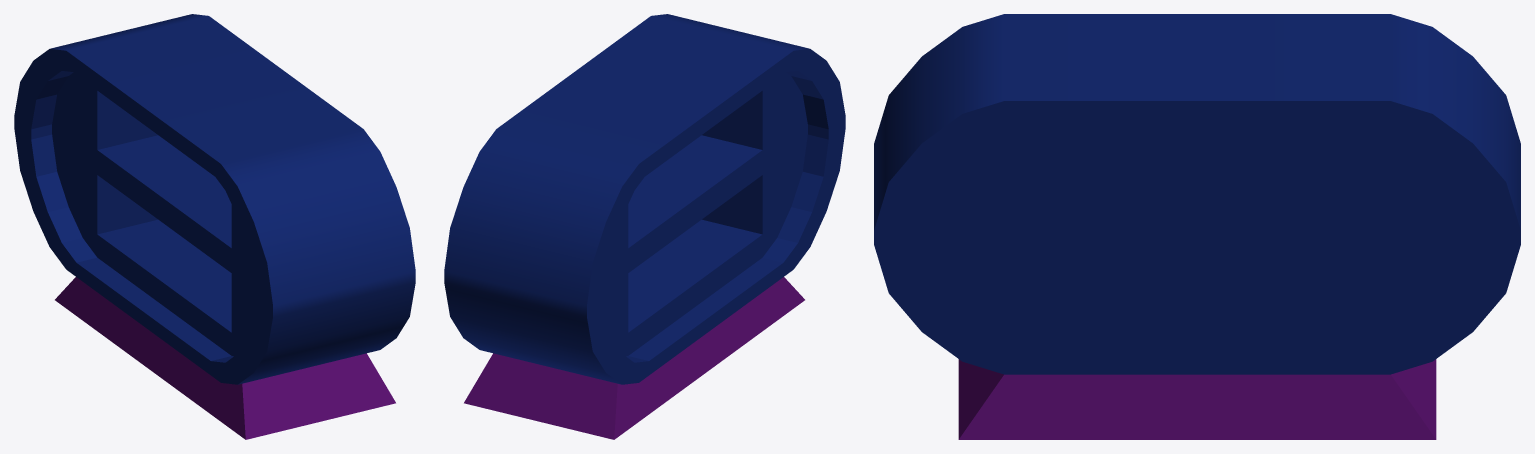
The model's file is SM_Chevet.fbx.
3 views of the same model, side by side, from view 1: azimuth 30°, elevation 25°; view 2: azimuth 150°, elevation 25°; view 3: azimuth 270°, elevation 25° (orthographic). The views are drawn at different scales.
Parts seen in each view (by area): view 1: pCube46; view 2: pCube46; view 3: pCube46.
Part boxes in pixels (box(x1,y1,x2,y2)): pCube46: box(14, 14, 415, 439); pCube46: box(444, 14, 845, 439); pCube46: box(874, 14, 1520, 439).
Size of the model in its own units: 51.74 by 83.16 by 148.
